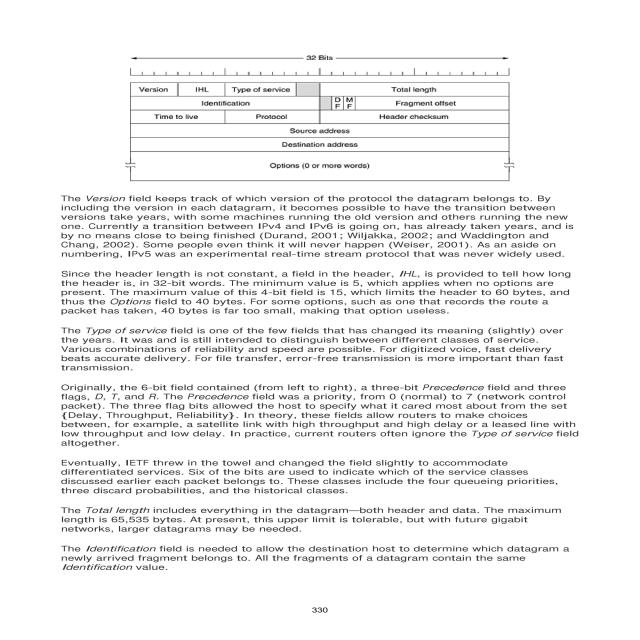diagram: (95, 27, 548, 192)
